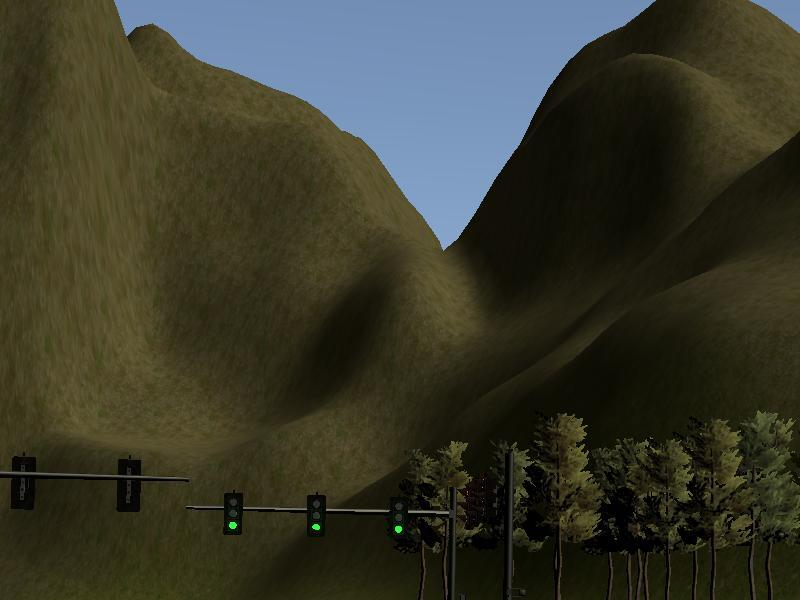Green: (308, 494, 327, 536), (388, 498, 408, 537), (224, 493, 241, 534)
